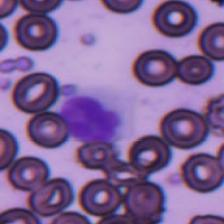M: (56, 88, 134, 144)
